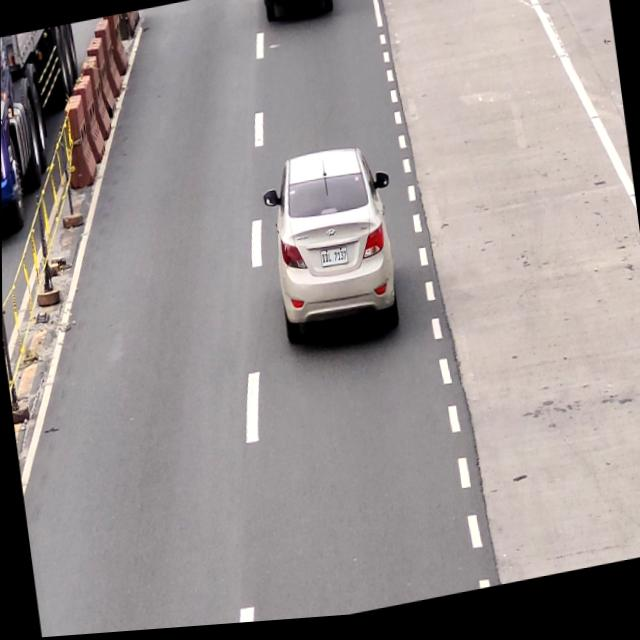Car: (263, 146, 406, 354), (263, 0, 334, 30)
License-Plate: (317, 250, 351, 279)
